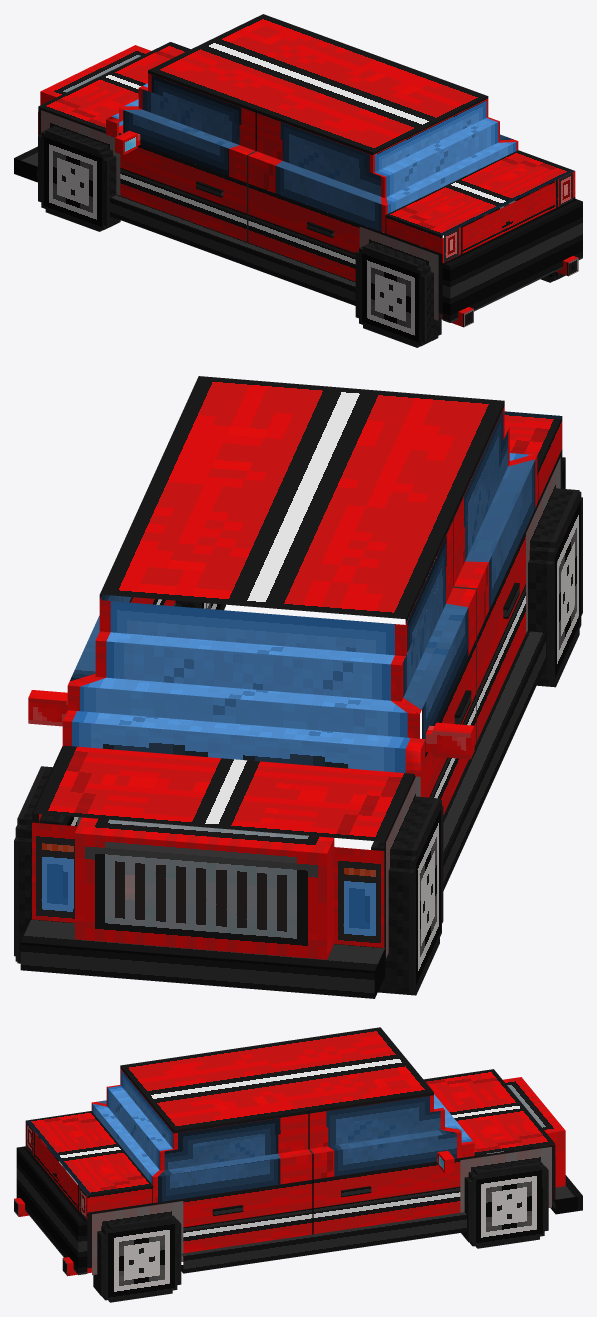
File: CAR_RD.fbx
3 views of the same model, one above another, from view 1: azimuth 30°, elevation 25°; view 2: azimuth 150°, elevation 25°; view 3: azimuth 270°, elevation 25° (orthographic). The views are drawn at different scales.
Parts seen in each view (by area): view 1: CAR_RD, R_L, F_L; view 2: CAR_RD, F_L, R_L, F_R; view 3: CAR_RD, R_R, F_R.
Boxes of the visible parts, x1,y1,x2,y2 form: CAR_RD: (14, 14, 582, 327); R_L: (355, 242, 441, 347); F_L: (38, 126, 120, 231); CAR_RD: (20, 376, 565, 998); F_L: (371, 796, 443, 995); R_L: (528, 488, 582, 687); F_R: (14, 766, 81, 963); CAR_RD: (14, 1027, 582, 1276); R_R: (93, 1213, 181, 1302); F_R: (461, 1159, 548, 1248).
Bounding box in the file's own units: 277 × 130 × 441.
3 materials, 3 textured.
